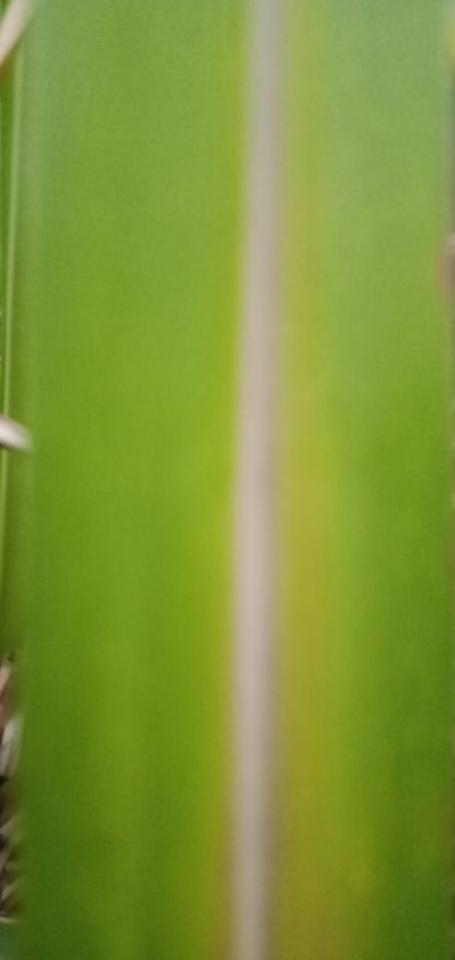Healthy: (19, 0, 454, 959)
